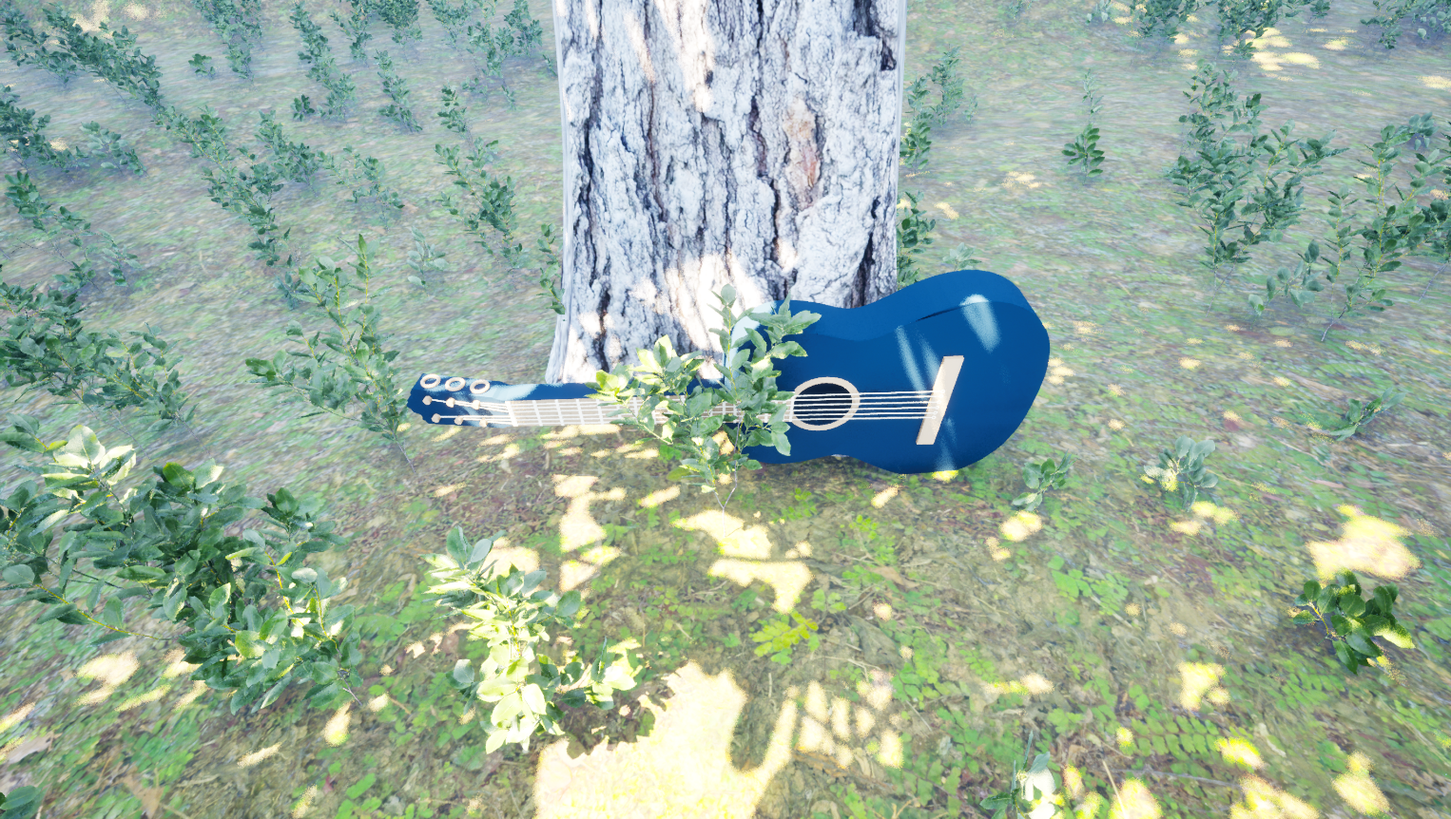Guitar: (327, 155, 1092, 744)
